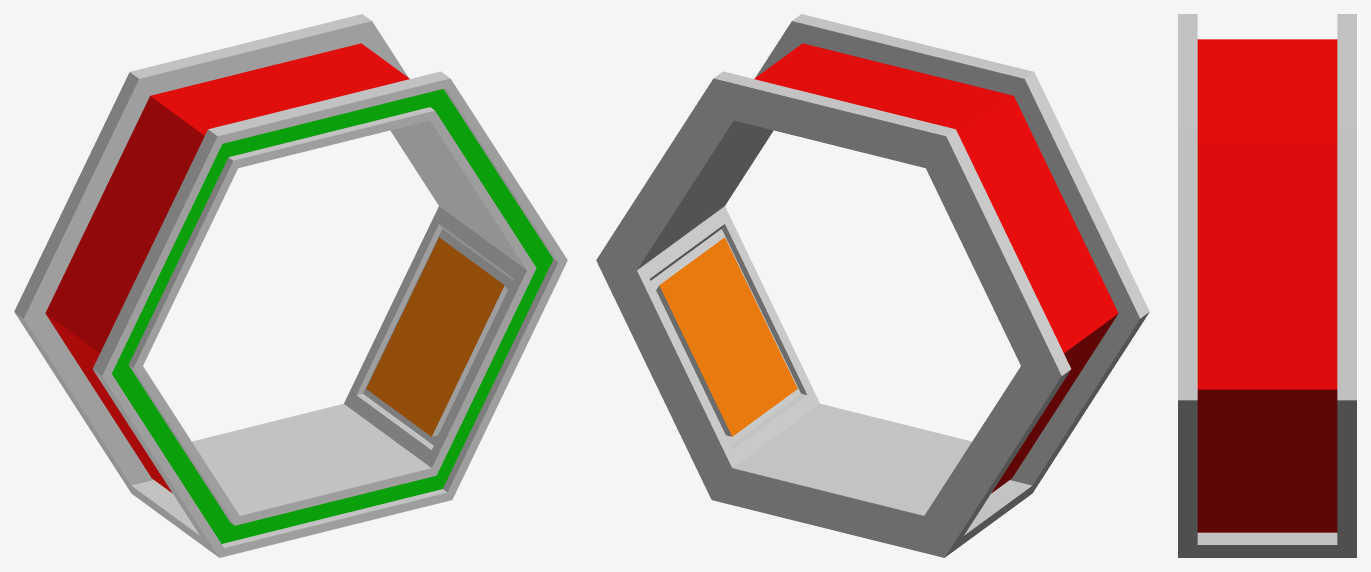
Rendered from bridgesection4.obj.
3 views of the same model, side by side, from view 1: azimuth 30°, elevation 25°; view 2: azimuth 150°, elevation 25°; view 3: azimuth 270°, elevation 25° (orthographic).
Parts seen in each view (by area): view 1: object1; view 2: object1; view 3: object1.
Boxes of the visible parts, x1,y1,x2,y2 form: object1: (14, 14, 567, 557); object1: (596, 14, 1149, 557); object1: (1178, 14, 1356, 557).
Size of the model in its own units: 16.81 by 14.6 by 5.5.
